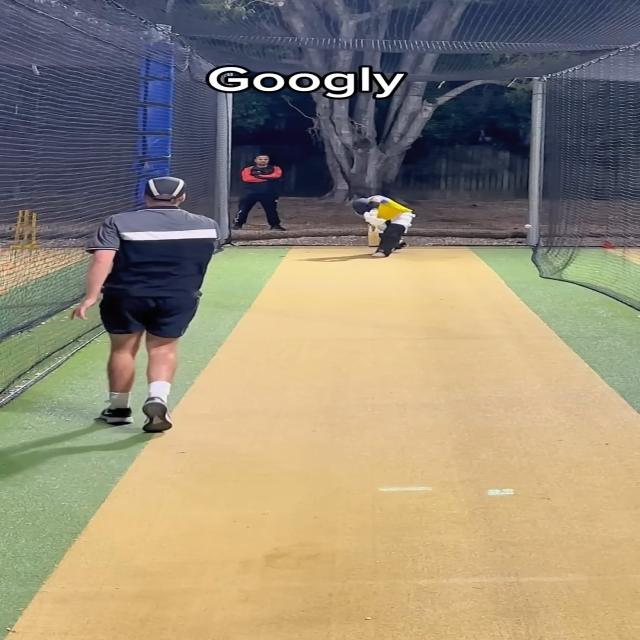Cricket ball: (524, 224, 532, 229)
